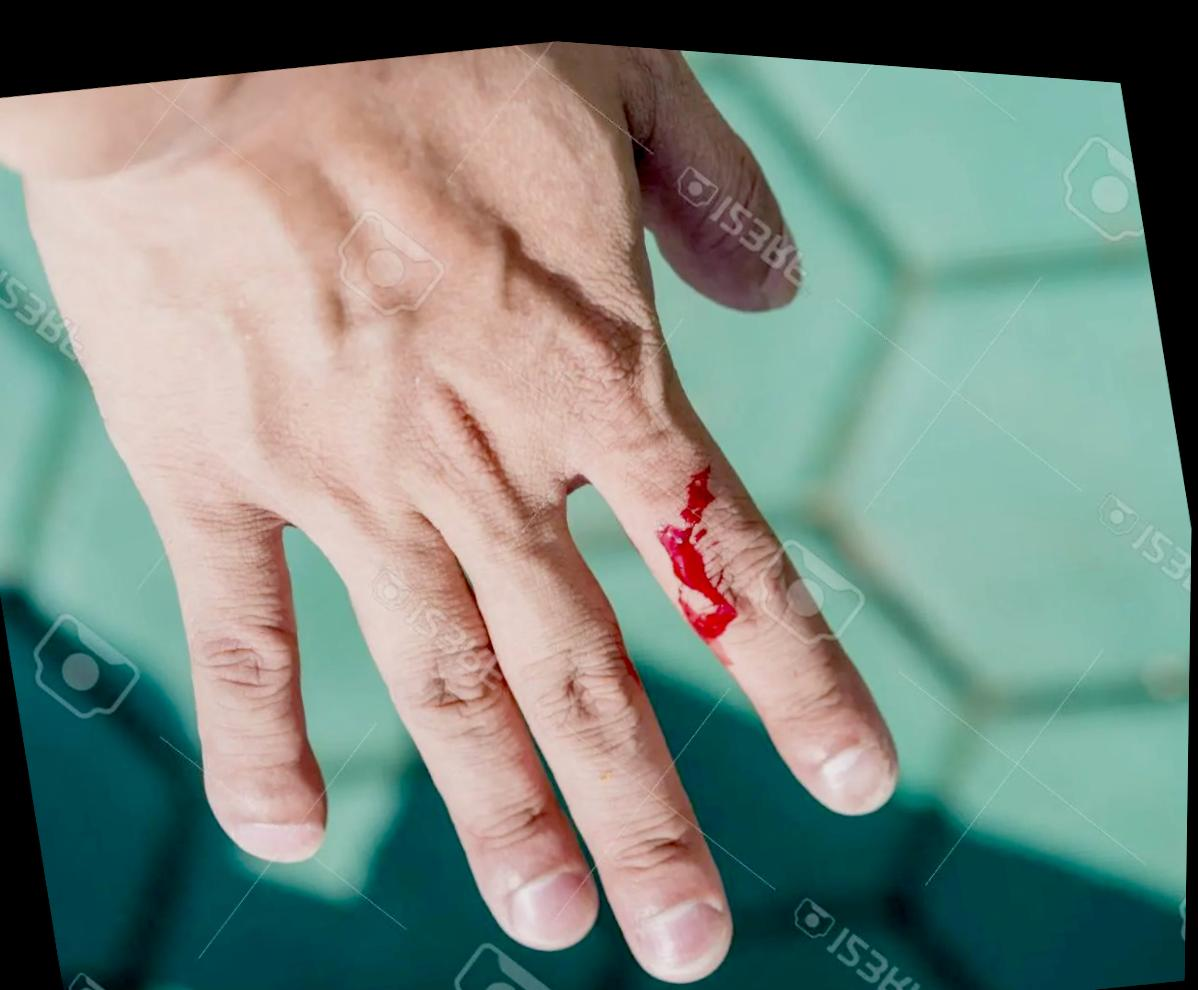Fire: (656, 463, 739, 654)
